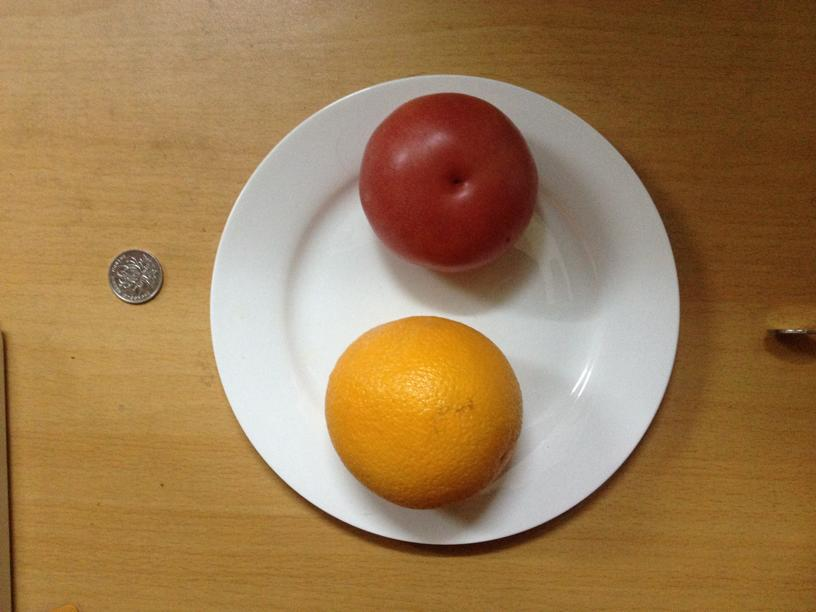coin: (106, 250, 164, 303)
orange: (325, 314, 522, 509)
tomato: (361, 91, 537, 271)
